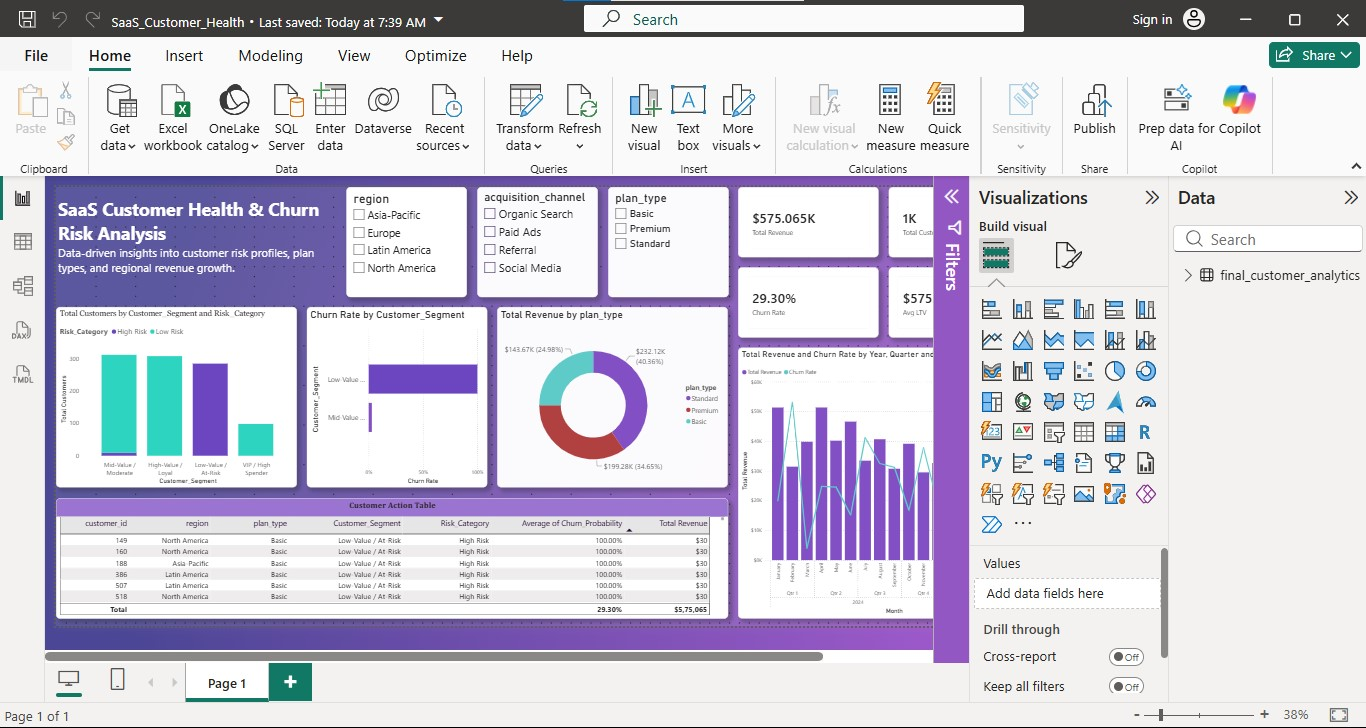

The dashboard page shown, as its layout file describes it:
{"tool":"powerbi","page":{"name":"Page 1","canvas":[2400,1050],"ordinal":0},"visuals":[{"type":"cardVisual","fields":{"Data":["final_customer_analytics.Total Customers"]},"box":[1992,0,384,168],"z":1000},{"type":"cardVisual","fields":{"Data":["final_customer_analytics.Total Revenue"]},"box":[1632,0,336,168],"z":2000},{"type":"cardVisual","fields":{"Data":["final_customer_analytics.Churn Rate"]},"box":[1632,192,336,168],"z":3000},{"type":"cardVisual","fields":{"Data":["final_customer_analytics.Avg LTV"]},"box":[1992,192,384,168],"z":4000},{"type":"columnChart","fields":{"Category":["final_customer_analytics.Customer_Segment"],"Y":["final_customer_analytics.Total Customers"],"Series":["final_customer_analytics.Risk_Category"]},"box":[0,288,576,432],"z":5000},{"type":"clusteredBarChart","fields":{"Category":["final_customer_analytics.Customer_Segment"],"Y":["final_customer_analytics.Churn Rate"]},"box":[600,288,432,432],"z":6000},{"type":"donutChart","fields":{"Category":["final_customer_analytics.plan_type"],"Y":["final_customer_analytics.Total Revenue"]},"box":[1056,288,552,432],"z":7000},{"type":"tableEx","title":"Customer Action Table","fields":{"Values":["final_customer_analytics.customer_id","final_customer_analytics.region","final_customer_analytics.plan_type","final_customer_analytics.Customer_Segment","final_customer_analytics.Risk_Category","Avg(final_customer_analytics.Churn_Probability)","final_customer_analytics.Total Revenue"]},"box":[0,744,1608,288],"z":8000},{"type":"slicer","fields":{"Values":["final_customer_analytics.region"]},"box":[696,0,288,264],"z":9000},{"type":"slicer","fields":{"Values":["final_customer_analytics.plan_type"]},"box":[1320,0,288,264],"z":10000},{"type":"slicer","fields":{"Values":["final_customer_analytics.acquisition_channel"]},"box":[1008,0,288,264],"z":11000},{"type":"lineClusteredColumnComboChart","fields":{"Y":["final_customer_analytics.Total Revenue"],"Y2":["final_customer_analytics.Churn Rate"],"Category":["final_customer_analytics.sub_start_date.Variation.Date Hierarchy.Year","final_customer_analytics.sub_start_date.Variation.Date Hierarchy.Quarter","final_customer_analytics.sub_start_date.Variation.Date Hierarchy.Month","final_customer_analytics.sub_start_date.Variation.Date Hierarchy.Day"]},"box":[1632,384,744,648],"z":13000},{"type":"textbox","box":[0,0,672,264],"z":13001}]}

Visuals, with their boxes on the page's 2400x1050 design canvas (x1, y1, x2, y2). These are canvas units, not pixel positions in the 1366x728 screenshot, which may show the page scaled, cropped or inside an application window:
cardVisual - final_customer_analytics.Total Customers: l=1992, t=0, r=2376, b=168
cardVisual - final_customer_analytics.Total Revenue: l=1632, t=0, r=1968, b=168
cardVisual - final_customer_analytics.Churn Rate: l=1632, t=192, r=1968, b=360
cardVisual - final_customer_analytics.Avg LTV: l=1992, t=192, r=2376, b=360
columnChart - final_customer_analytics.Customer_Segment x final_customer_analytics.Total Customers: l=0, t=288, r=576, b=720
clusteredBarChart - final_customer_analytics.Customer_Segment x final_customer_analytics.Churn Rate: l=600, t=288, r=1032, b=720
donutChart - final_customer_analytics.plan_type x final_customer_analytics.Total Revenue: l=1056, t=288, r=1608, b=720
"Customer Action Table" tableEx: l=0, t=744, r=1608, b=1032
slicer - final_customer_analytics.region: l=696, t=0, r=984, b=264
slicer - final_customer_analytics.plan_type: l=1320, t=0, r=1608, b=264
slicer - final_customer_analytics.acquisition_channel: l=1008, t=0, r=1296, b=264
lineClusteredColumnComboChart - final_customer_analytics.Total Revenue x final_customer_analytics.Churn Rate: l=1632, t=384, r=2376, b=1032
textbox: l=0, t=0, r=672, b=264
